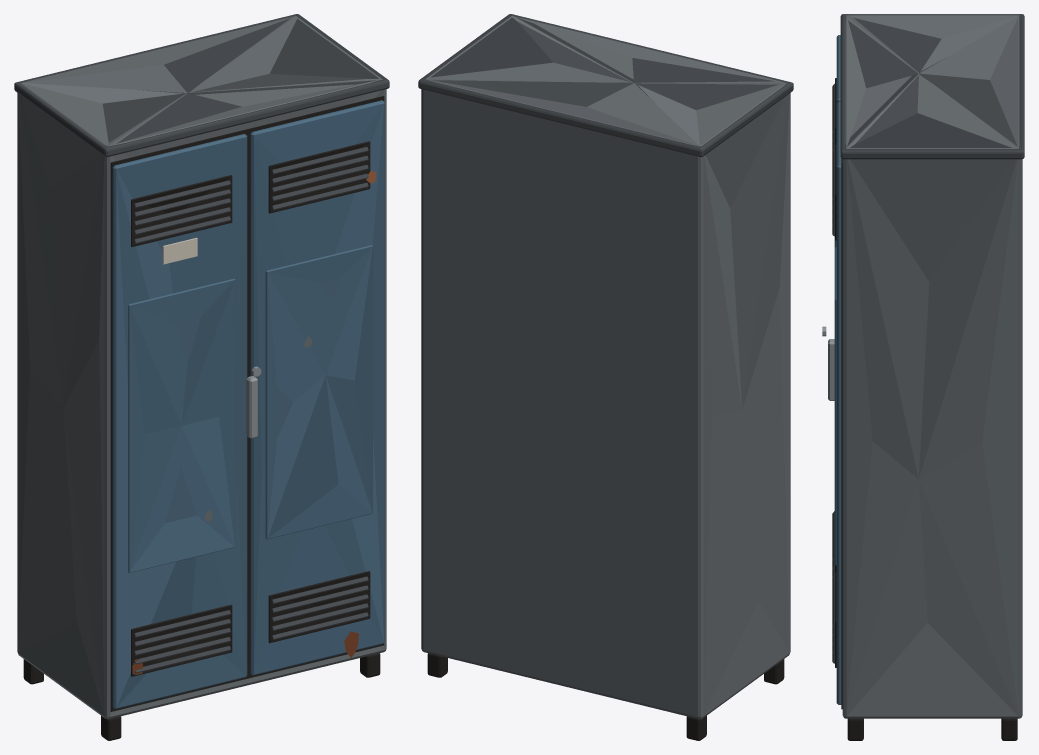
The model's file is wardrobe_metallicheskiy_shkafchik_idle.glb.
3 renders of one model, left to right at view 1: azimuth 30°, elevation 25°; view 2: azimuth 150°, elevation 25°; view 3: azimuth 270°, elevation 25°, orthographic.
Visible parts, largest first — view 1: wardrobe_metallicheskiy_shkafchik_idle; view 2: wardrobe_metallicheskiy_shkafchik_idle; view 3: wardrobe_metallicheskiy_shkafchik_idle.
Part boxes in pixels (x1=…): wardrobe_metallicheskiy_shkafchik_idle: x1=14, y1=14, x2=389, y2=740; wardrobe_metallicheskiy_shkafchik_idle: x1=418, y1=14, x2=793, y2=740; wardrobe_metallicheskiy_shkafchik_idle: x1=822, y1=14, x2=1024, y2=740.
Size of the model in its own units: 1 by 2 by 0.618.
1 material, 1 textured.
